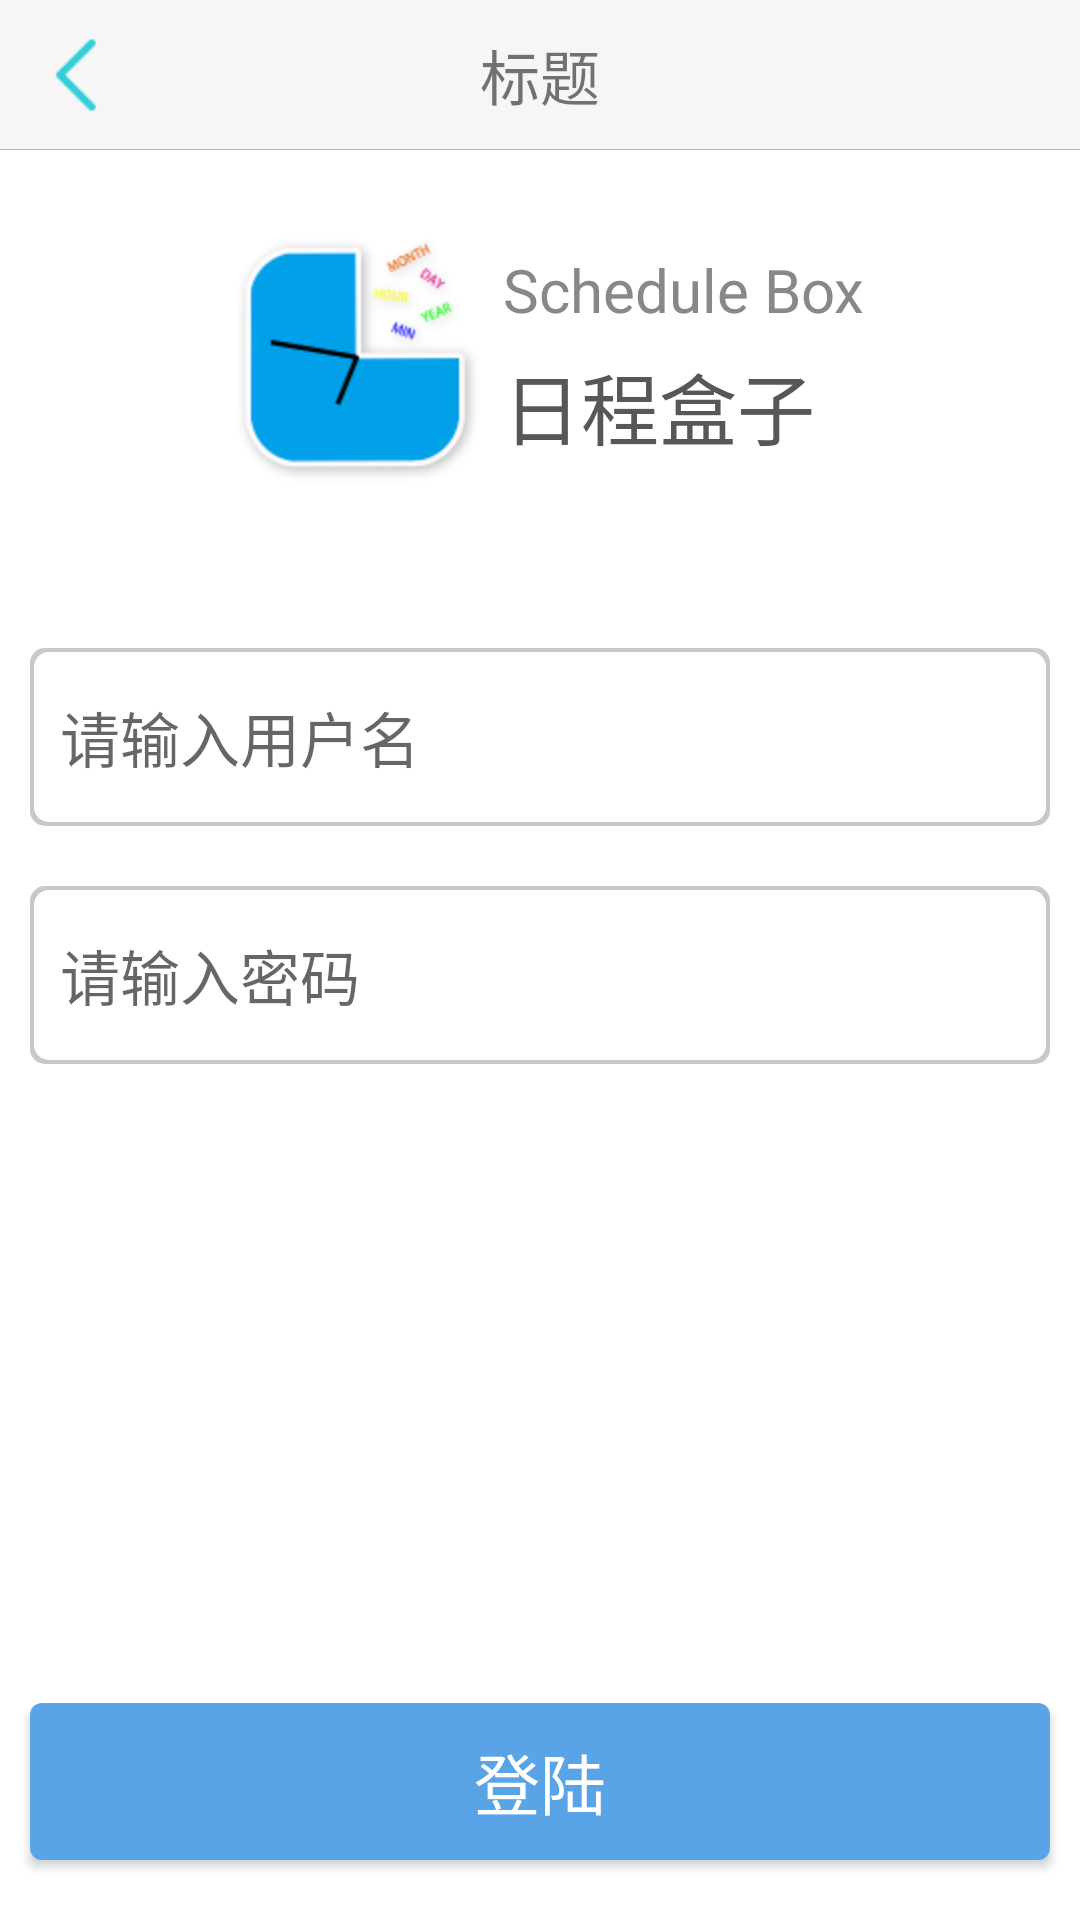

Screen size 1080w x 1920h. Icon name, then its center in pixels as point (x, y):
explorer backward: point (75, 75)
